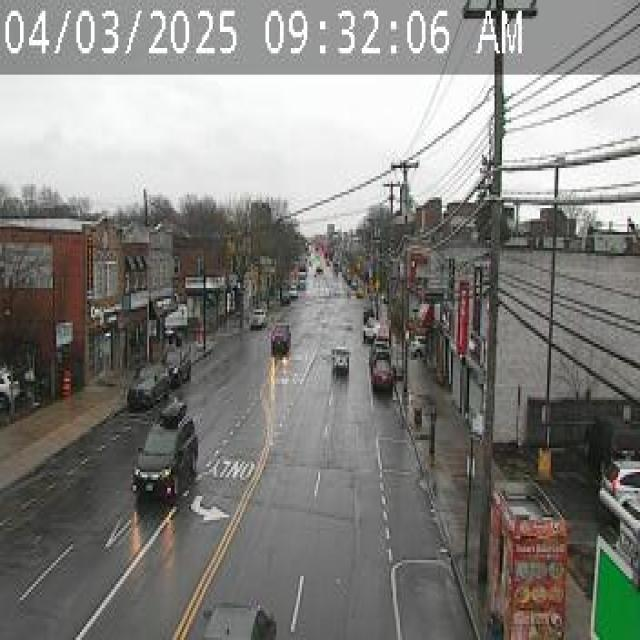parkedCars: (374, 310, 398, 396)
